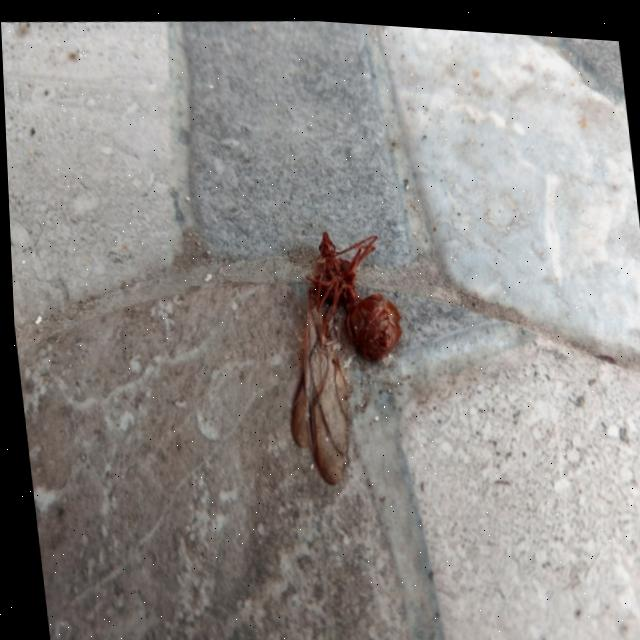Dead-Male-Alate: (265, 218, 416, 488)
